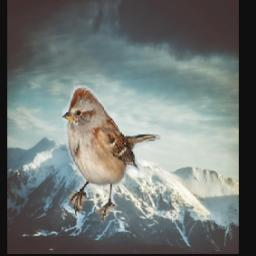Sparrow: (62, 85, 162, 222)
